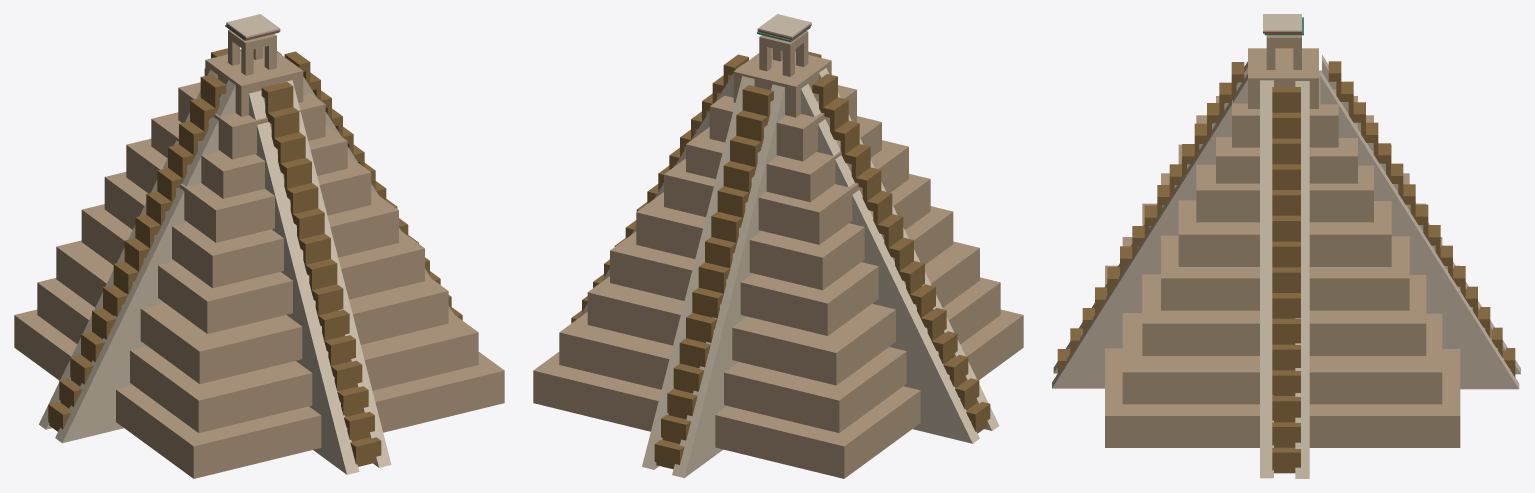
File: piramide maya.glb
The picture shows the model from 3 angles, left to right: view 1: azimuth 30°, elevation 25°; view 2: azimuth 150°, elevation 25°; view 3: azimuth 270°, elevation 25°; orthographic projection.
Parts seen in each view (by area): view 1: Mesh_Mesh_head_geo.001_lambert2SG.001; view 2: Mesh_Mesh_head_geo.001_lambert2SG.001; view 3: Mesh_Mesh_head_geo.001_lambert2SG.001.
Part boxes in pixels (x1,y1,x2,y2): Mesh_Mesh_head_geo.001_lambert2SG.001: (14,14,504,478); Mesh_Mesh_head_geo.001_lambert2SG.001: (533,14,1023,478); Mesh_Mesh_head_geo.001_lambert2SG.001: (1052,14,1520,478).
Bounding box in the file's own units: 0.265 × 0.221 × 0.264.
